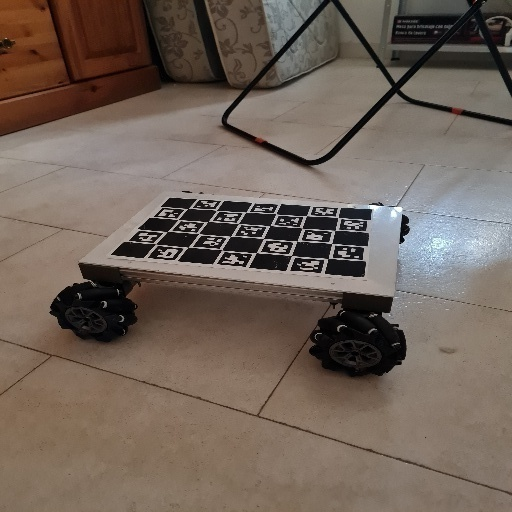Omniwheel: (50, 189, 411, 380)
